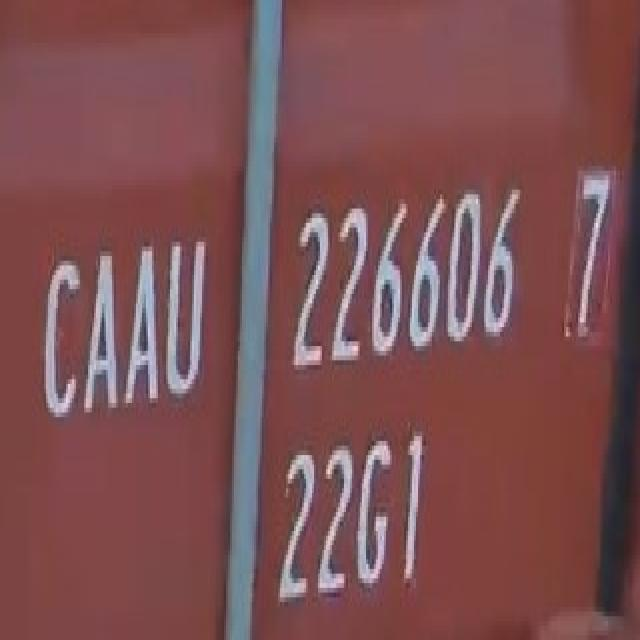dv: (552, 170, 624, 369)
owner: (34, 217, 214, 425)
serial: (287, 173, 527, 385)
size: (273, 420, 435, 619)
